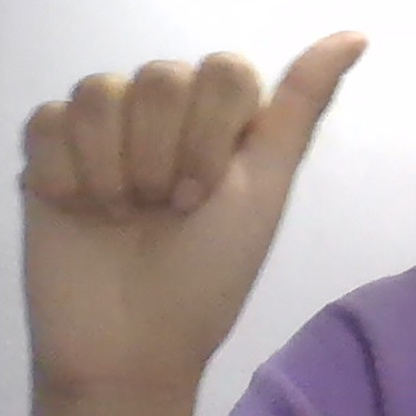A: (20, 32, 367, 389)
